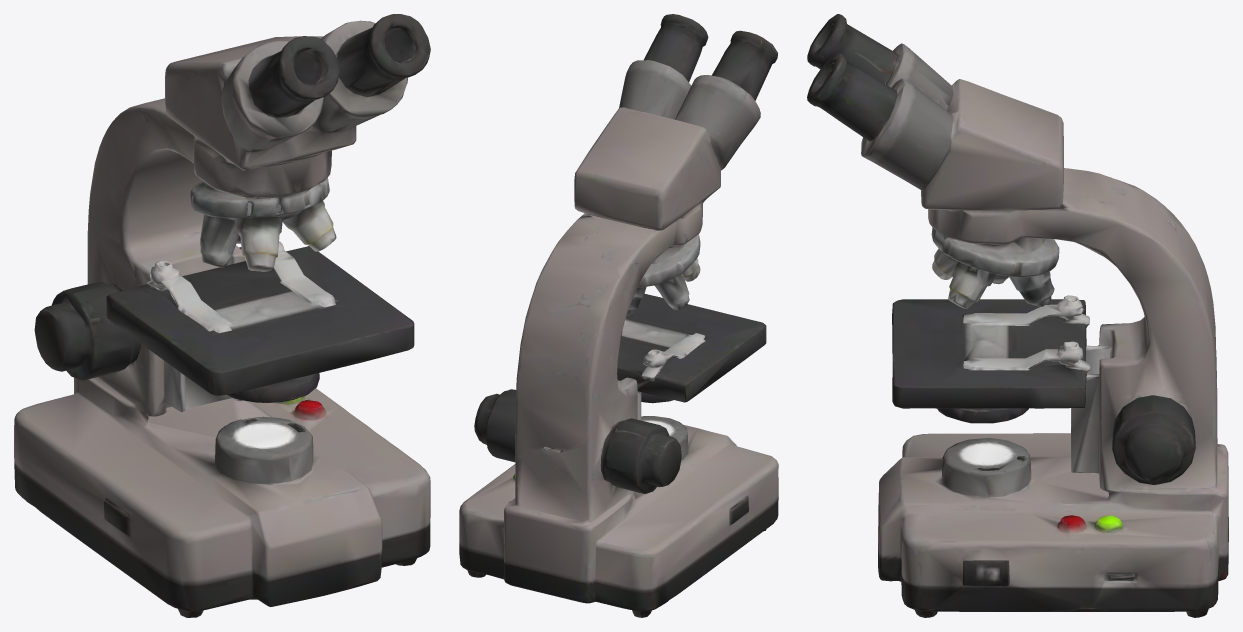
The model's file is microscope.glb.
3 renders of one model, left to right at view 1: azimuth 30°, elevation 25°; view 2: azimuth 150°, elevation 25°; view 3: azimuth 270°, elevation 25°, orthographic. The views are drawn at different scales.
Parts seen in each view (by area): view 1: geometry_0; view 2: geometry_0; view 3: geometry_0.
Boxes of the visible parts, x1,y1,x2,y2 form: geometry_0: (14,14,430,617); geometry_0: (459,14,778,617); geometry_0: (807,14,1228,617).
Bounding box in the file's own units: 0.4749 × 1 × 0.7225.
1 material, 1 textured.
